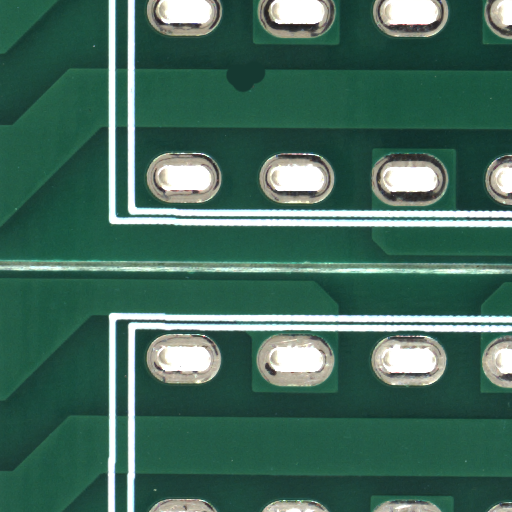Mouse_bite: (245, 79, 286, 107)
